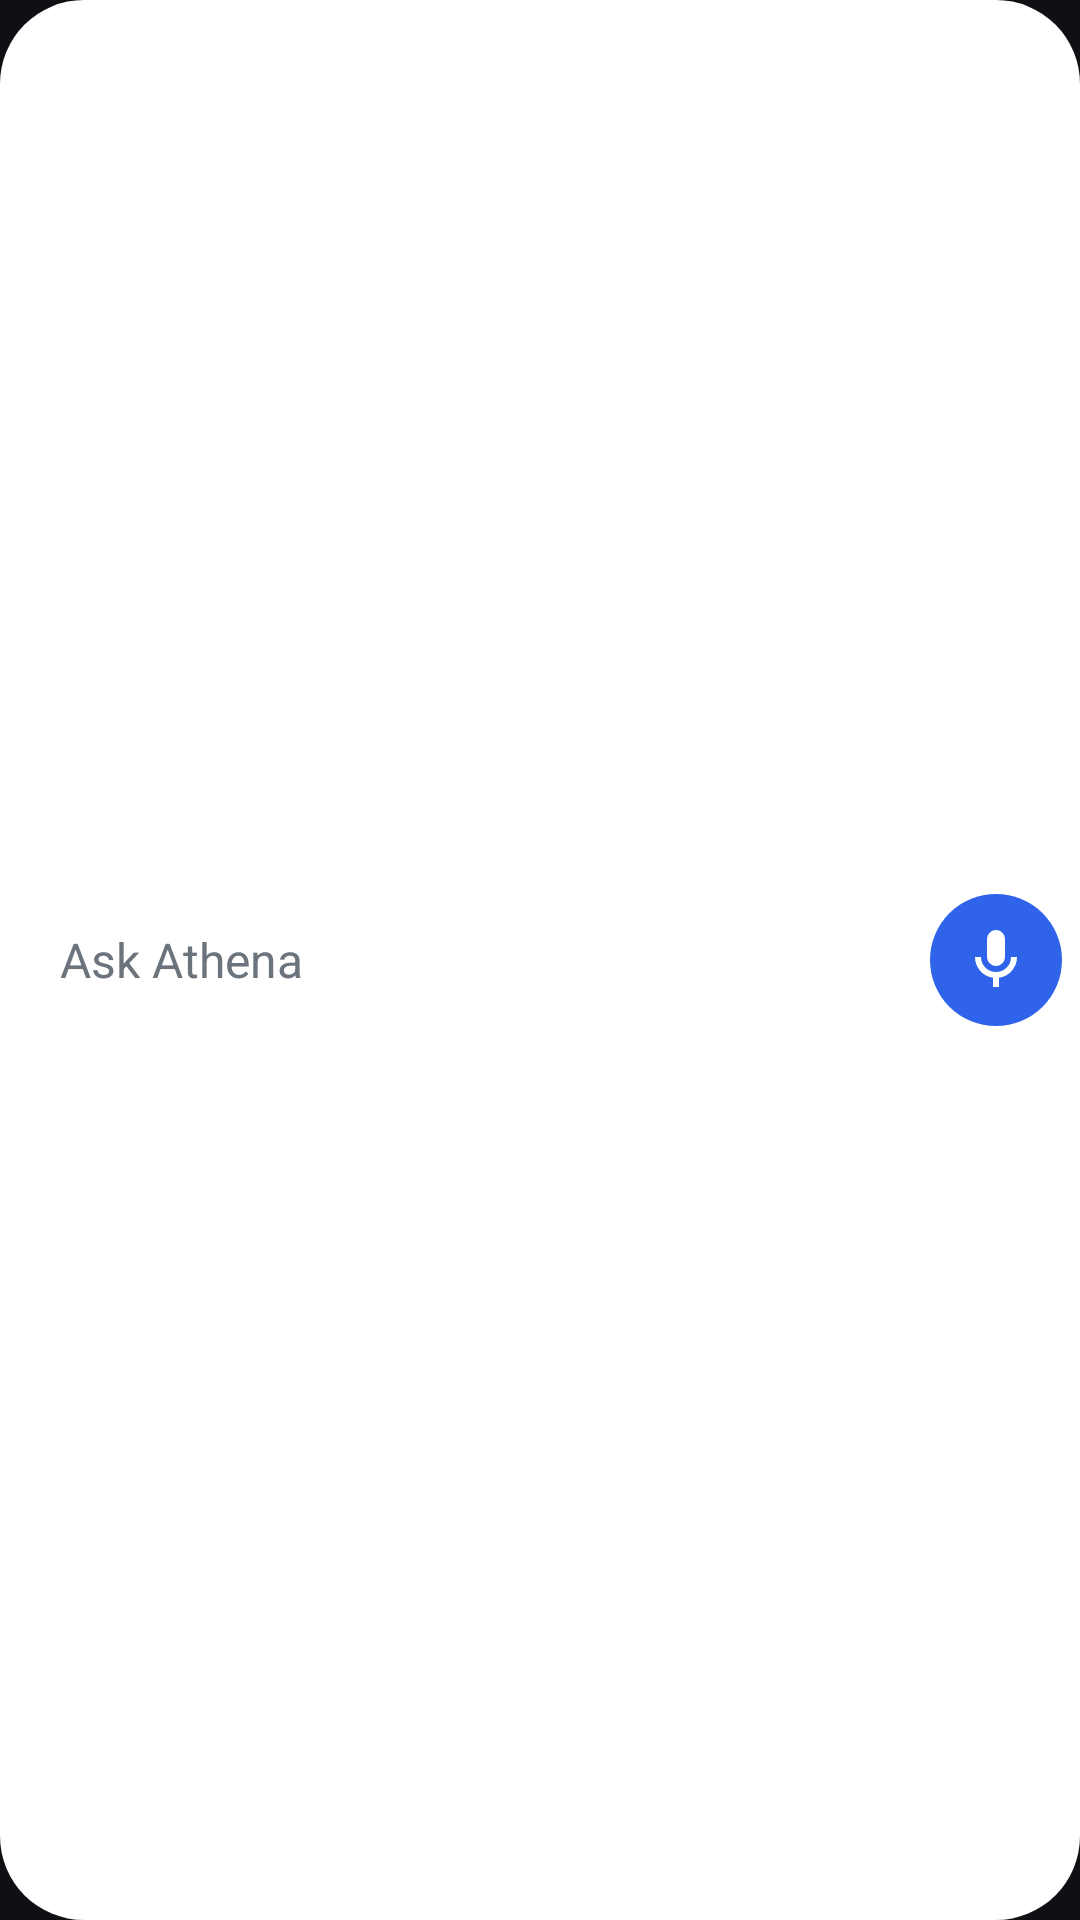

Screen size 1080x1920. Icon name, then its box in pixels as bbox=[x1, y1, x2, y2]:
Speak to Athena: bbox=[930, 894, 1062, 1026]
